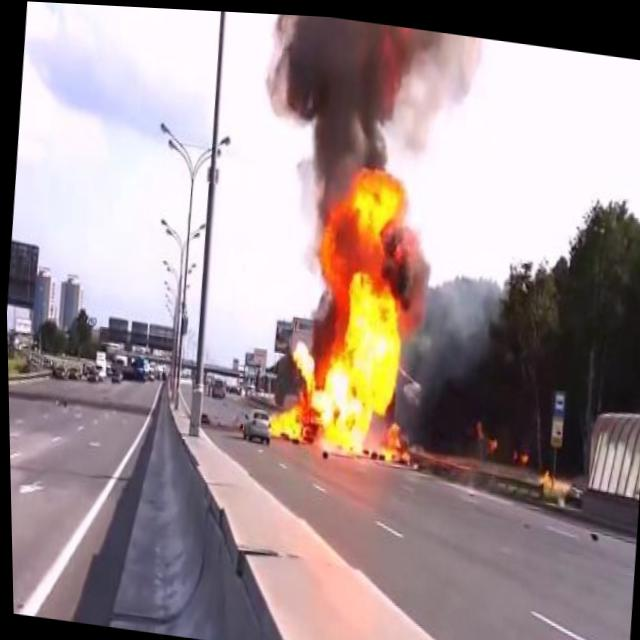fire: (255, 142, 441, 477), (469, 411, 502, 452), (510, 438, 530, 458)
